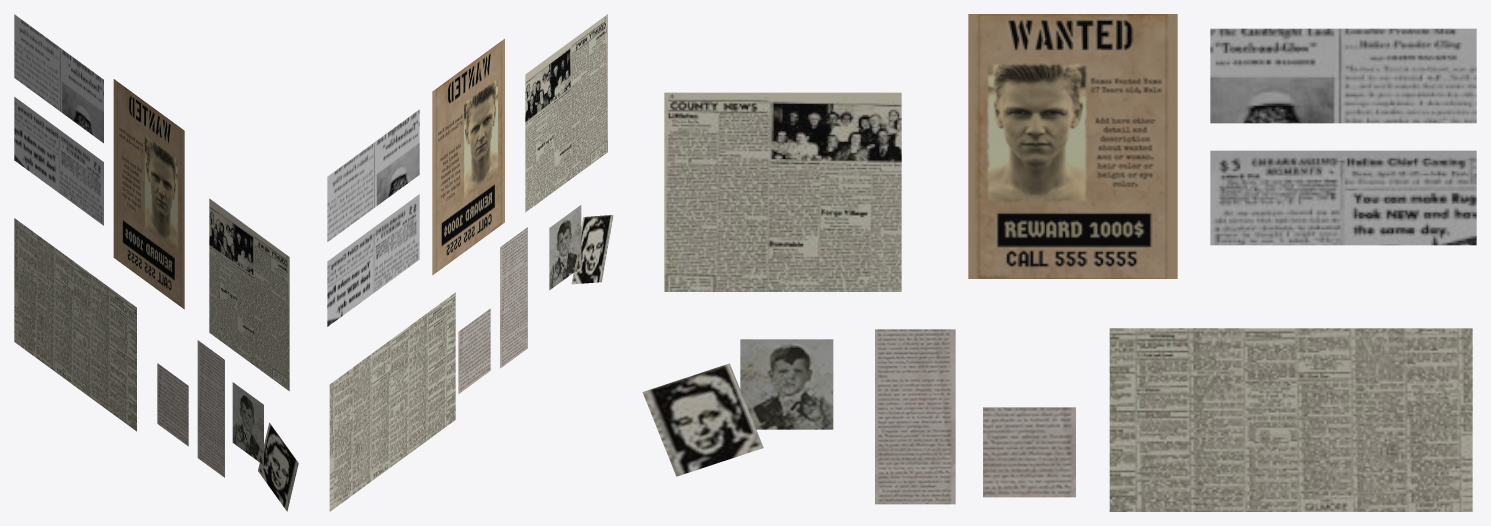
The model's file is newswarnings.FBX.
The picture shows the model from 3 angles, left to right: view 1: azimuth 30°, elevation 25°; view 2: azimuth 150°, elevation 25°; view 3: azimuth 270°, elevation 25°; orthographic projection. The views are drawn at different scales.
Visible parts, largest first — view 1: newsclippings002; view 2: newsclippings002; view 3: newsclippings002.
Boxes of the visible parts, bbox=[...] form: newsclippings002: bbox=[14, 14, 298, 511]; newsclippings002: bbox=[327, 14, 613, 511]; newsclippings002: bbox=[642, 14, 1476, 511].
Bounding box in the file's own units: 4.06 × 144 × 218.
